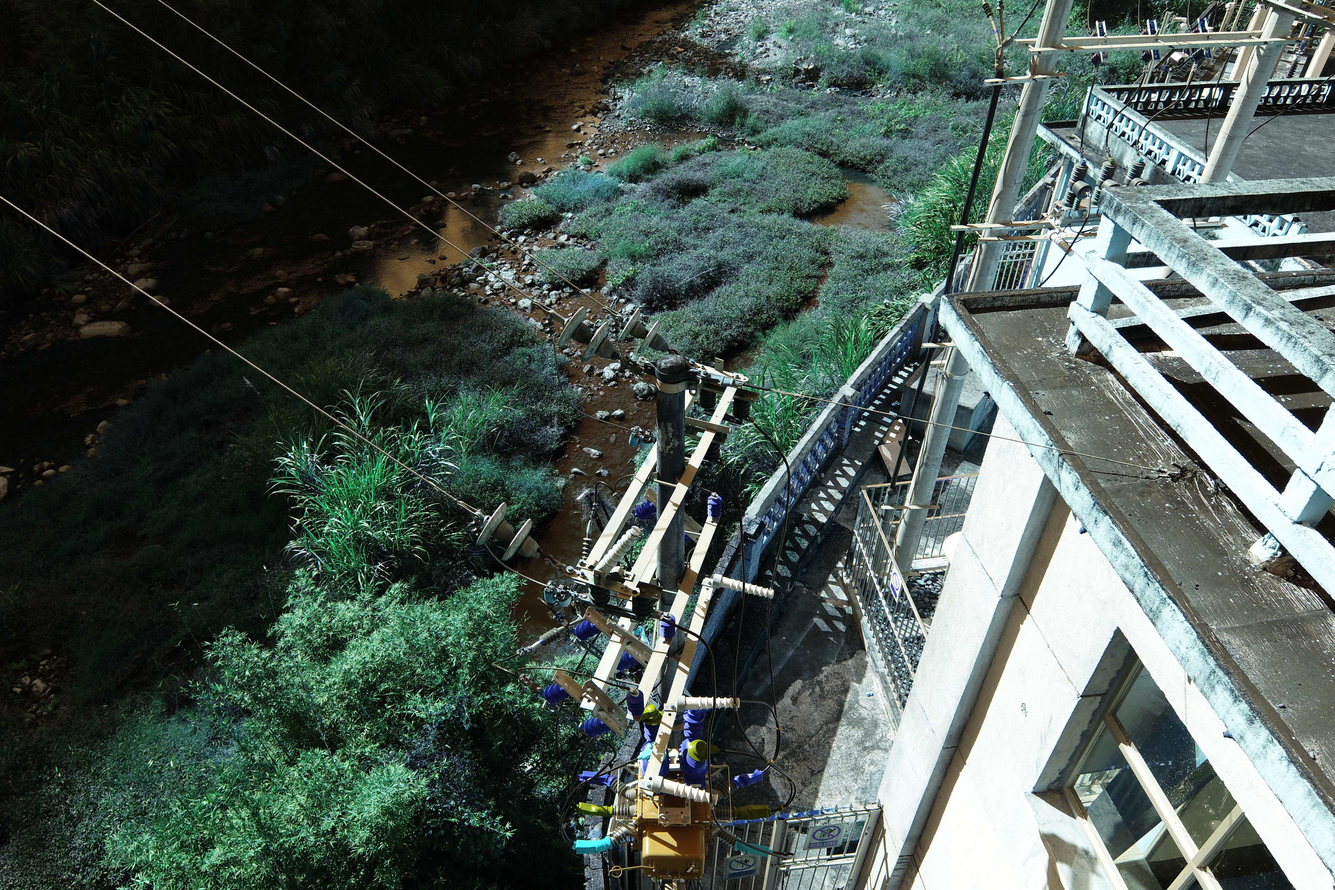severe_soiling_no_discharge_whole: (475, 501, 543, 564), (555, 304, 620, 364), (588, 525, 646, 580), (619, 306, 669, 354)
